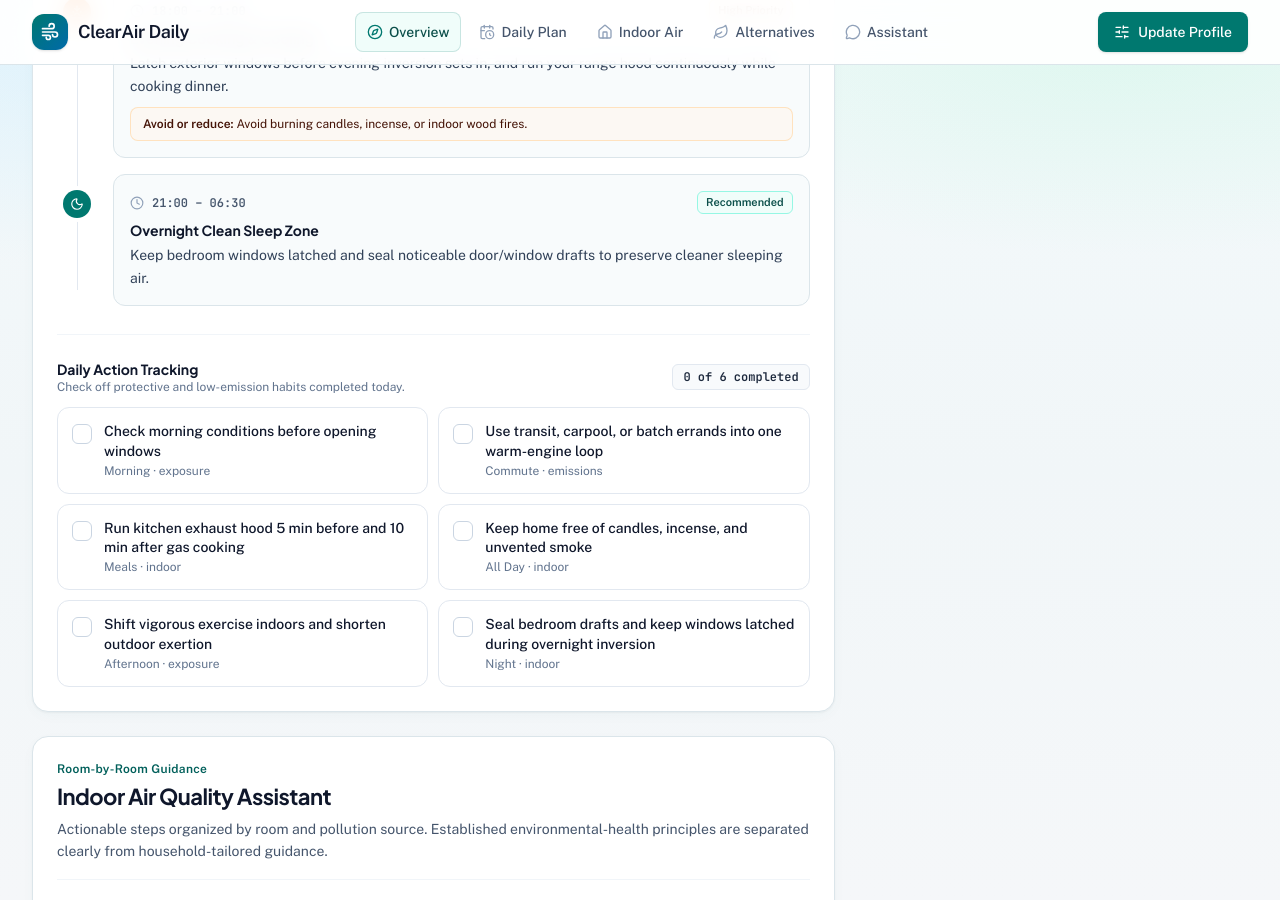
Test case: ClearAir Daily UI flows › tracks daily checklist toggles and updates progress count
(page scrolled)
expect the text "0 of 6 completed" is shown: met, box 672,364 -> 810,390
Click the checkbox labelled "Check morning conditions". click: [240, 431]
box: 57,407 -> 428,494
(page scrolled)
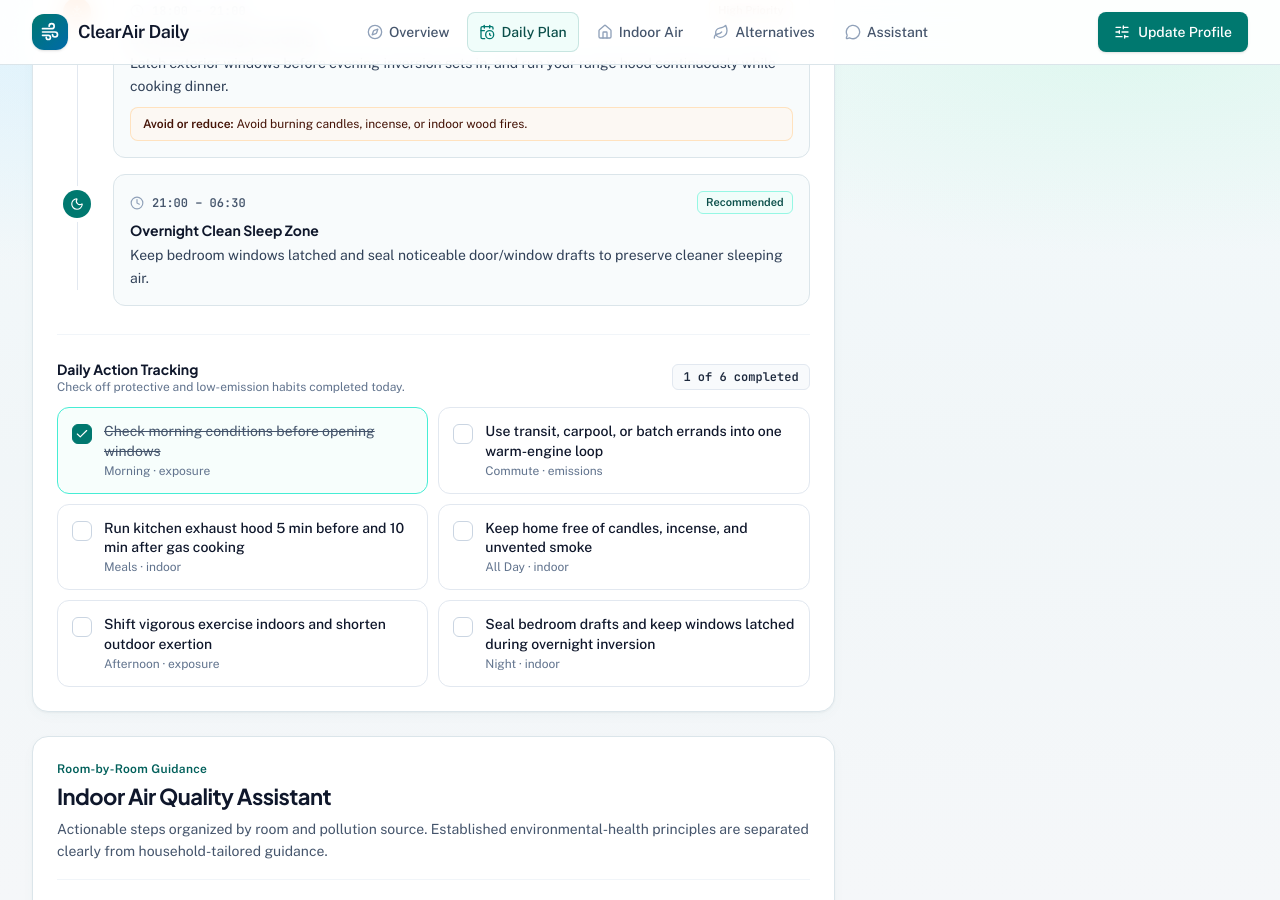
expect the text "1 of 6 completed" is shown: met, box 672,364 -> 810,390
